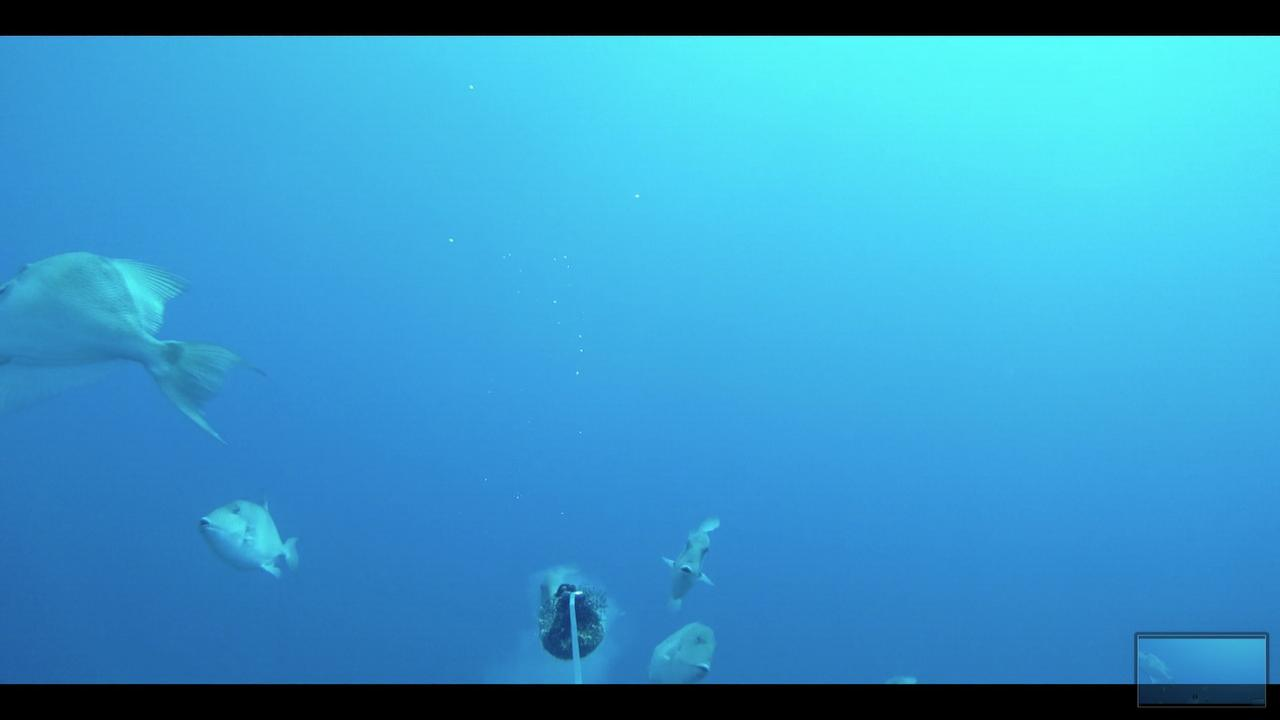balistes: (0, 244, 273, 444), (192, 488, 312, 585), (657, 500, 722, 616), (639, 615, 715, 681)
